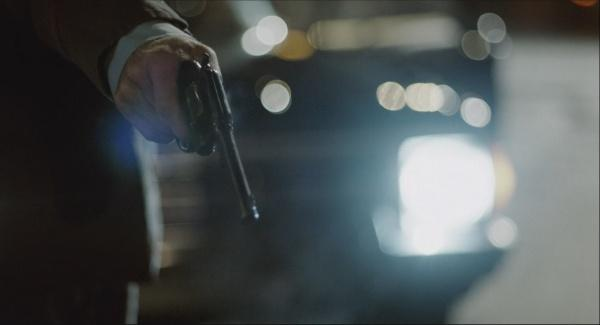Gun: (173, 56, 259, 224)
